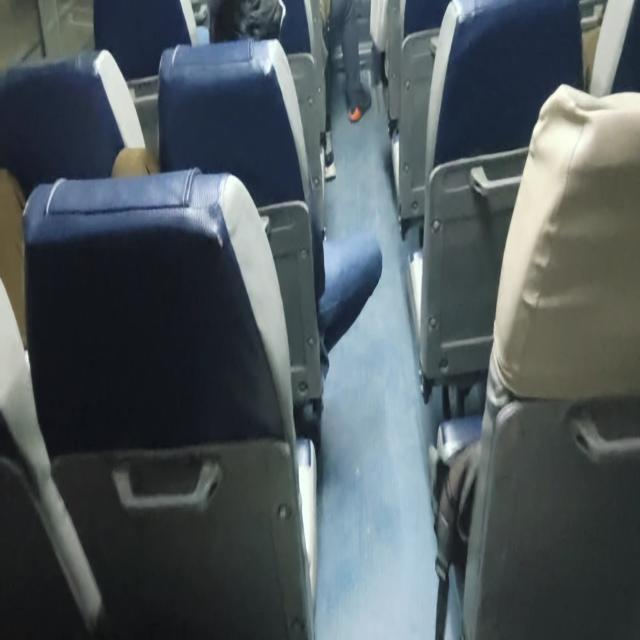person: (211, 0, 285, 53)
